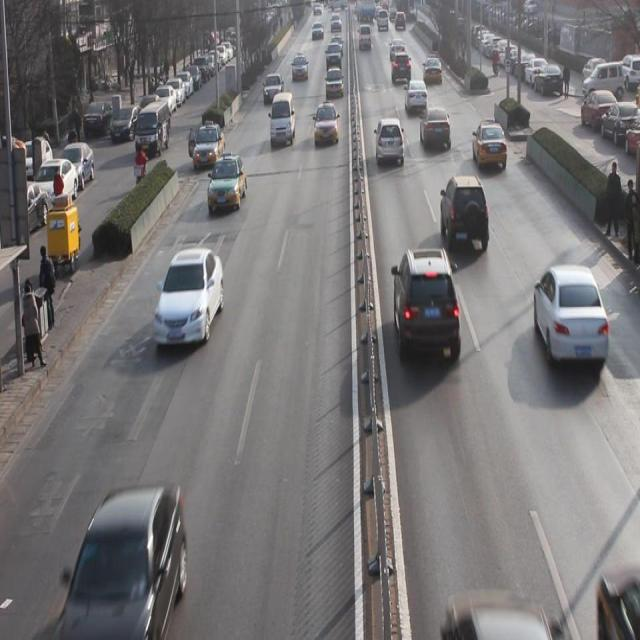car: (60, 489, 183, 640), (533, 264, 612, 377), (393, 248, 461, 362), (157, 252, 224, 347), (442, 174, 491, 256), (208, 155, 247, 212), (471, 117, 508, 172), (375, 118, 405, 170), (192, 122, 225, 167), (420, 104, 452, 150), (314, 102, 339, 146), (404, 75, 428, 113), (391, 51, 411, 86), (263, 74, 283, 105), (326, 67, 344, 99), (423, 56, 442, 84), (292, 54, 308, 83)
truck: (269, 91, 295, 151)
